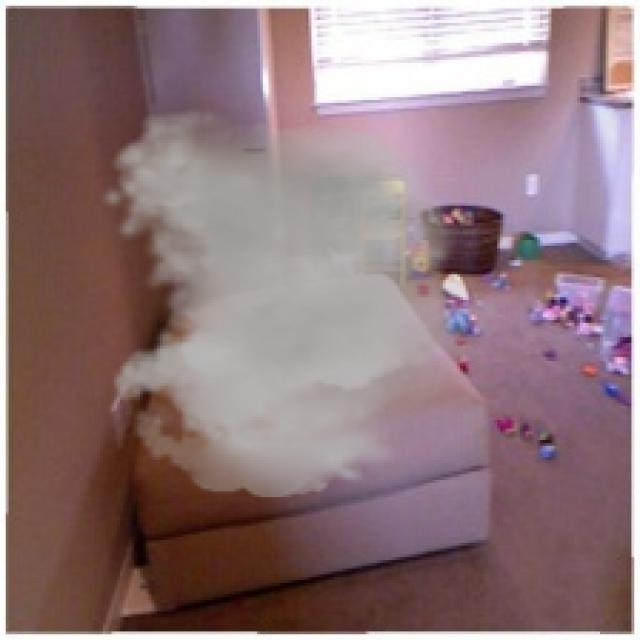smoke: (100, 109, 509, 497)
